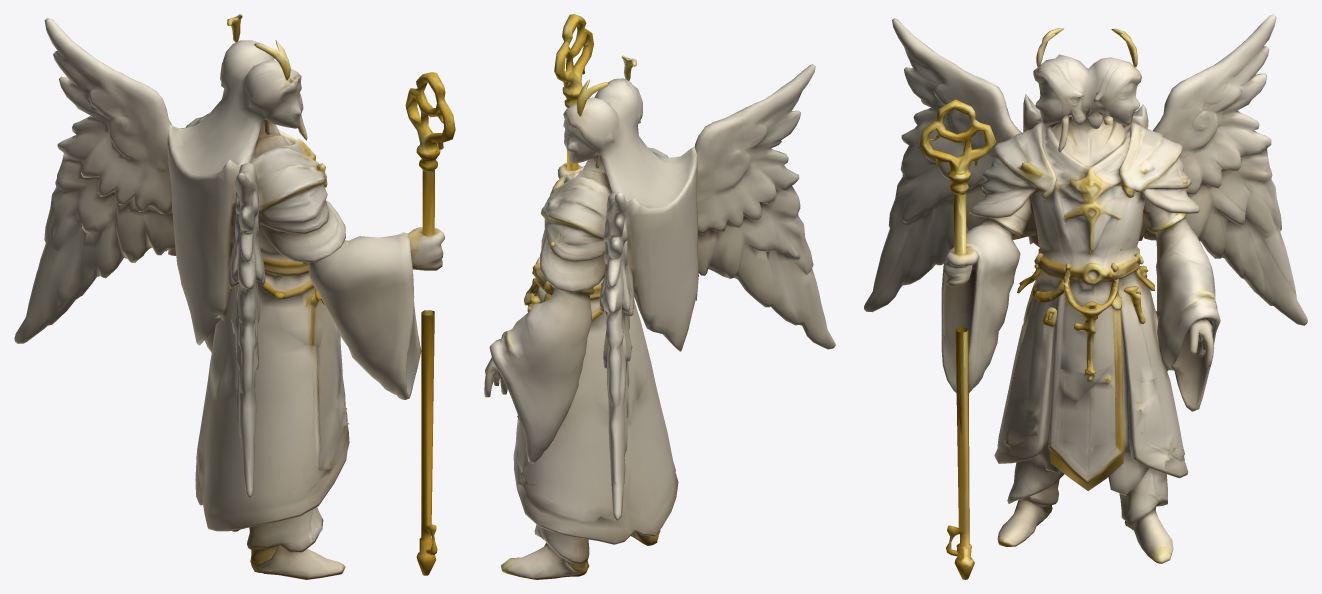
3 renders of one model, left to right at view 1: azimuth 30°, elevation 25°; view 2: azimuth 150°, elevation 25°; view 3: azimuth 270°, elevation 25°, orthographic. The views are drawn at different scales.
Parts seen in each view (by area): view 1: tripo_node_948b7927-126a-4a1a-a13b-e717e313ae04; view 2: tripo_node_948b7927-126a-4a1a-a13b-e717e313ae04; view 3: tripo_node_948b7927-126a-4a1a-a13b-e717e313ae04.
Part boxes in pixels (x1,y1,x2,y2): tripo_node_948b7927-126a-4a1a-a13b-e717e313ae04: (14,14,455,579); tripo_node_948b7927-126a-4a1a-a13b-e717e313ae04: (484,14,835,579); tripo_node_948b7927-126a-4a1a-a13b-e717e313ae04: (864,14,1307,579).
Size of the model in its own units: 0.4912 by 0.998 by 0.8063.
Materials: 1 (1 with a texture image).
